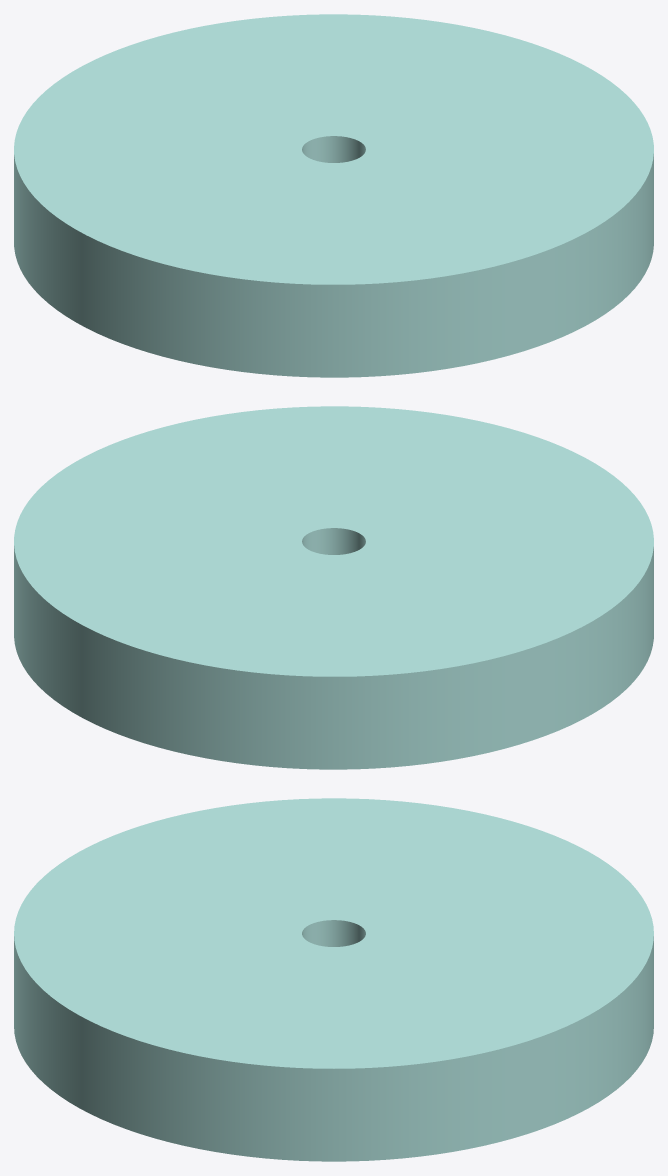
File: Disk1.dae
3 renders of one model, top to bottom at view 1: azimuth 30°, elevation 25°; view 2: azimuth 150°, elevation 25°; view 3: azimuth 270°, elevation 25°, orthographic.
Visible parts, largest first — view 1: ID2; view 2: ID2; view 3: ID2.
Boxes of the visible parts, x1,y1,x2,y2 form: ID2: [14, 14, 653, 377]; ID2: [14, 406, 653, 769]; ID2: [14, 798, 653, 1161].
Bounding box in the file's own units: 0.05 × 0.05 × 0.008.
